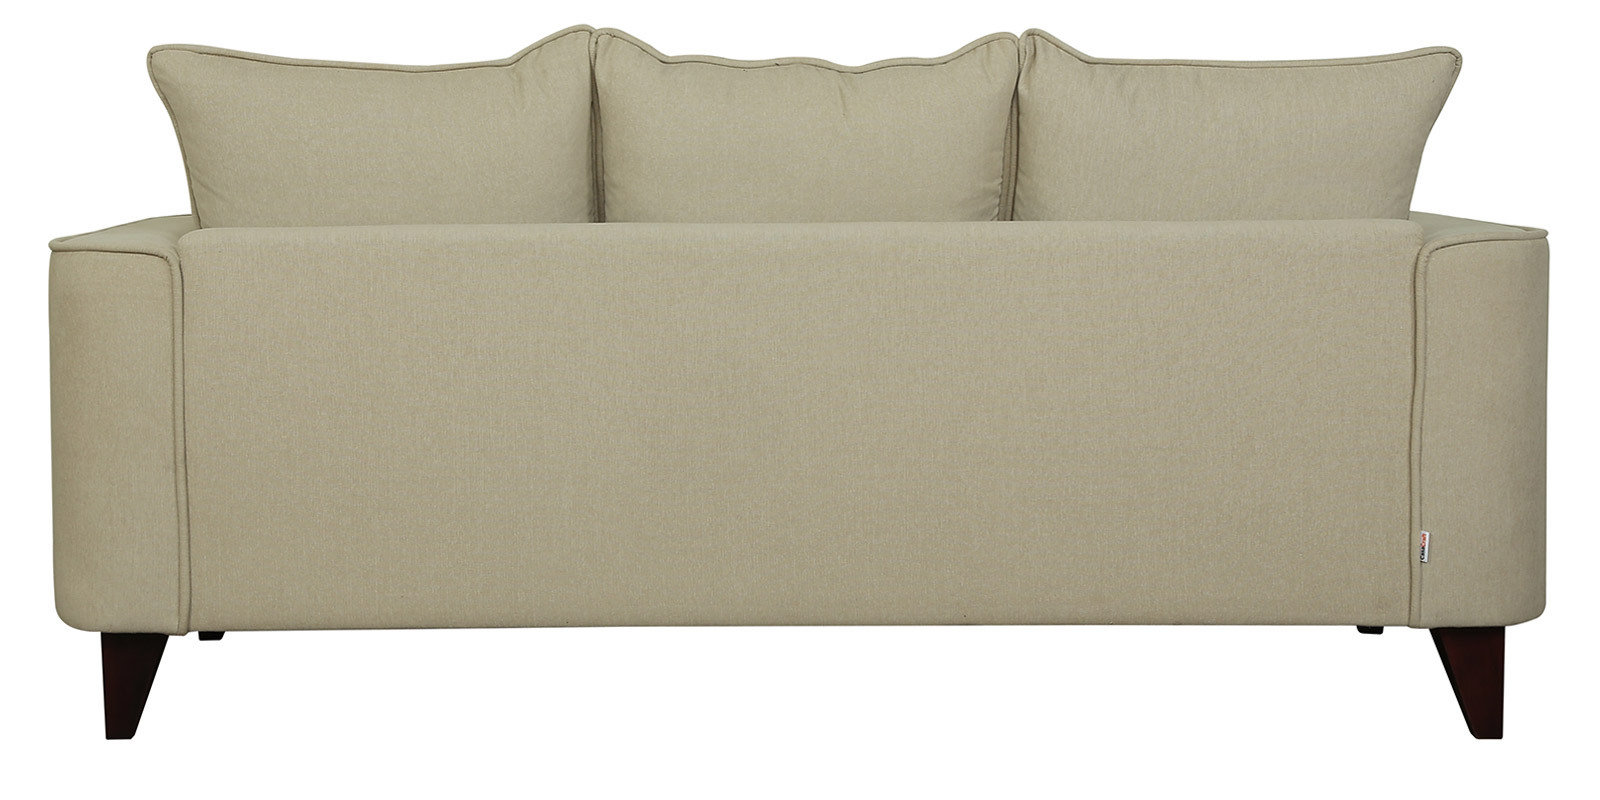Lara Three Seater Sofa in Beige Colour by CasaCraft: (48, 23, 1554, 741)
